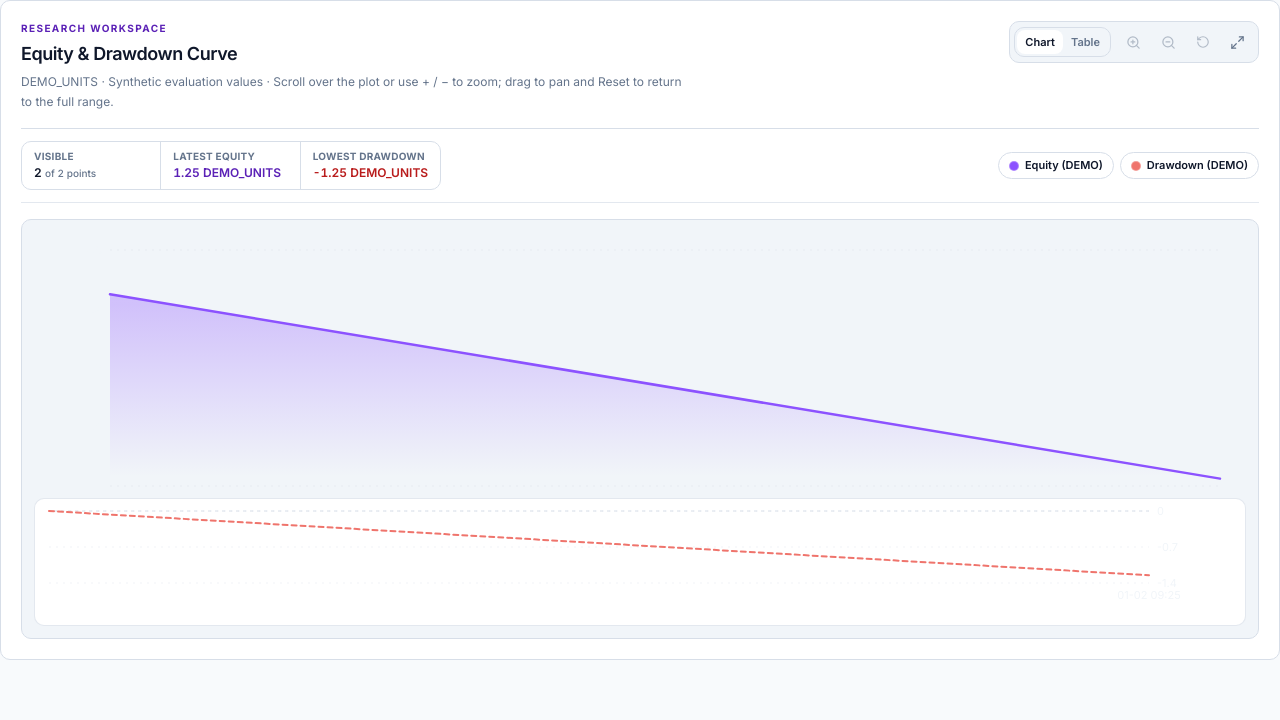
Test case: DemoEquityChart › offers chart/table inspection, series controls, and an accessible expanded dialog
Later steps or results of the test are not shown.
Expected: the heading "Equity & Drawdown Curve" is shown, [21,43,237,64]
Expected: the text "Synthetic evaluation values" is shown, [21,74,682,109]
Click the button "Table".
click(1086, 42)  # box [1063,30,1108,54]
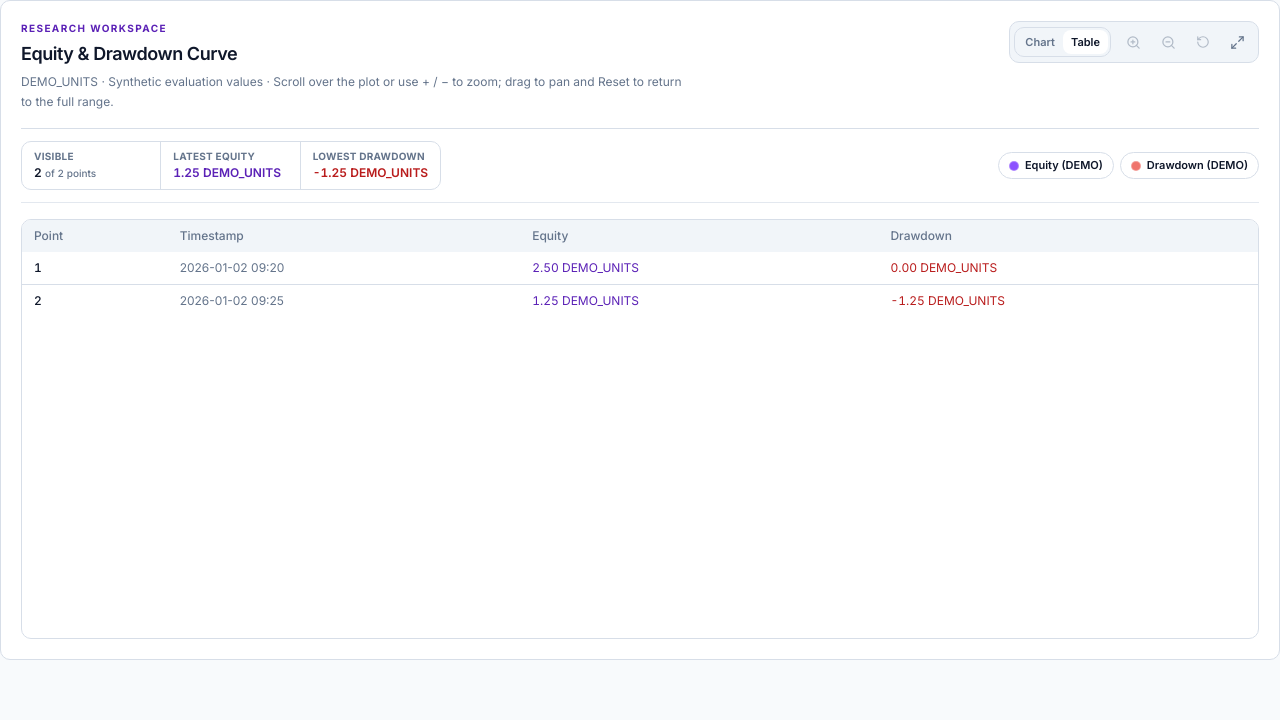
Now the element named "Visible synthetic equity and drawdown data" is shown, box [21,219,1259,639]
Now the text "2.50 DEMO_UNITS" is shown, box [520,252,878,285]
Click the button "Equity (DEMO)".
click(1056, 166)  # box [998,152,1114,179]
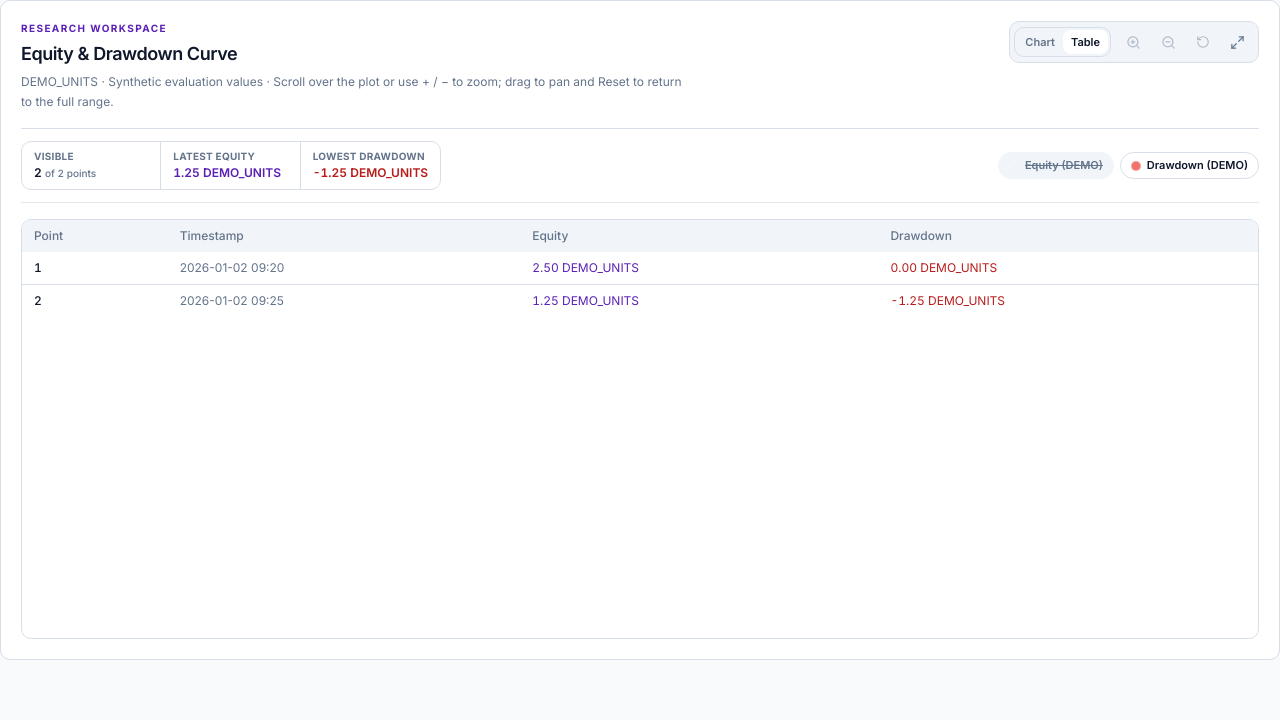
Click the button "Drawdown (DEMO)".
click(1189, 166)  # box [1120,152,1259,179]
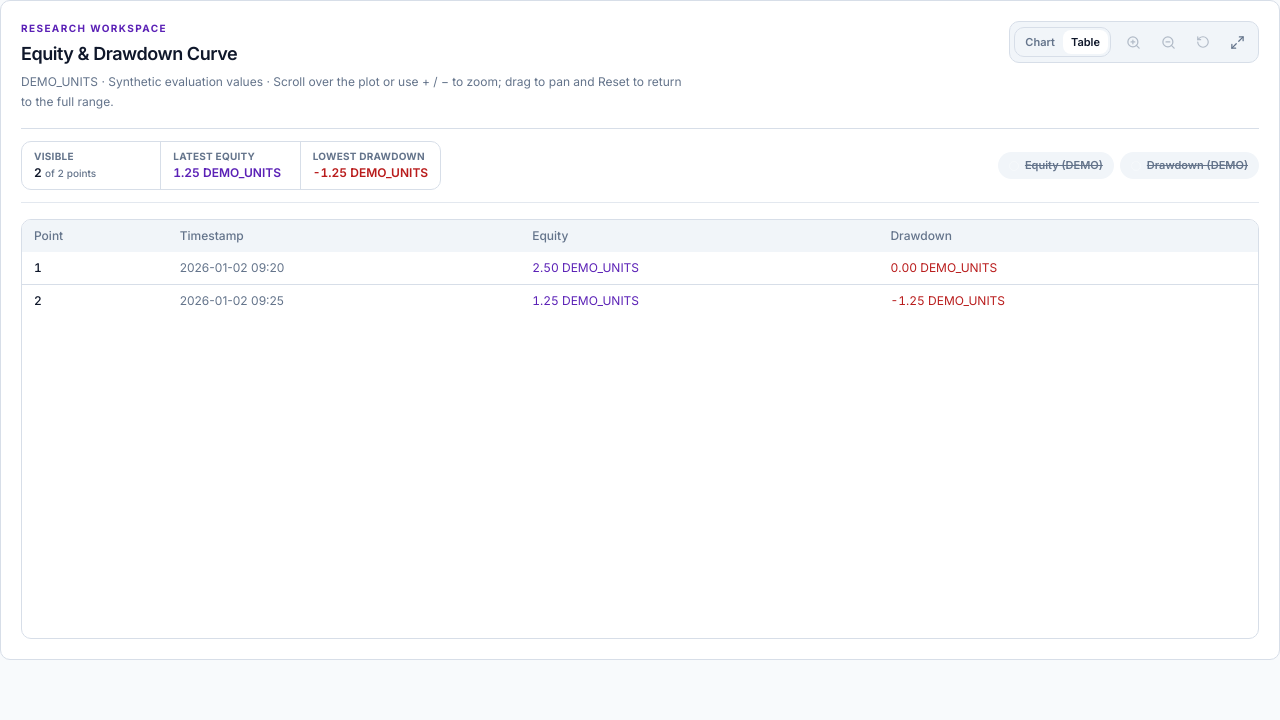
Click the button "Chart".
click(1040, 42)  # box [1017,30,1063,54]
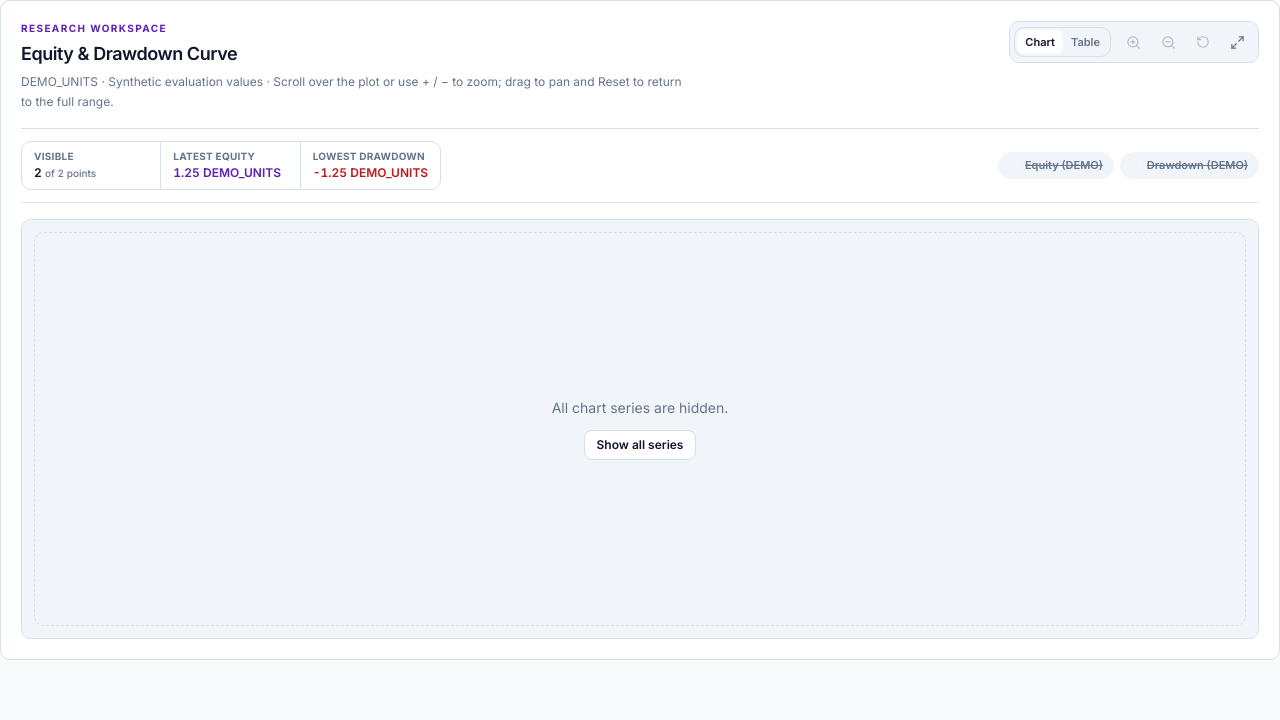
Now the text "All chart series are hidden." is shown, box [552,398,728,418]
Click the button "Show all series".
click(640, 445)  # box [584,430,696,460]
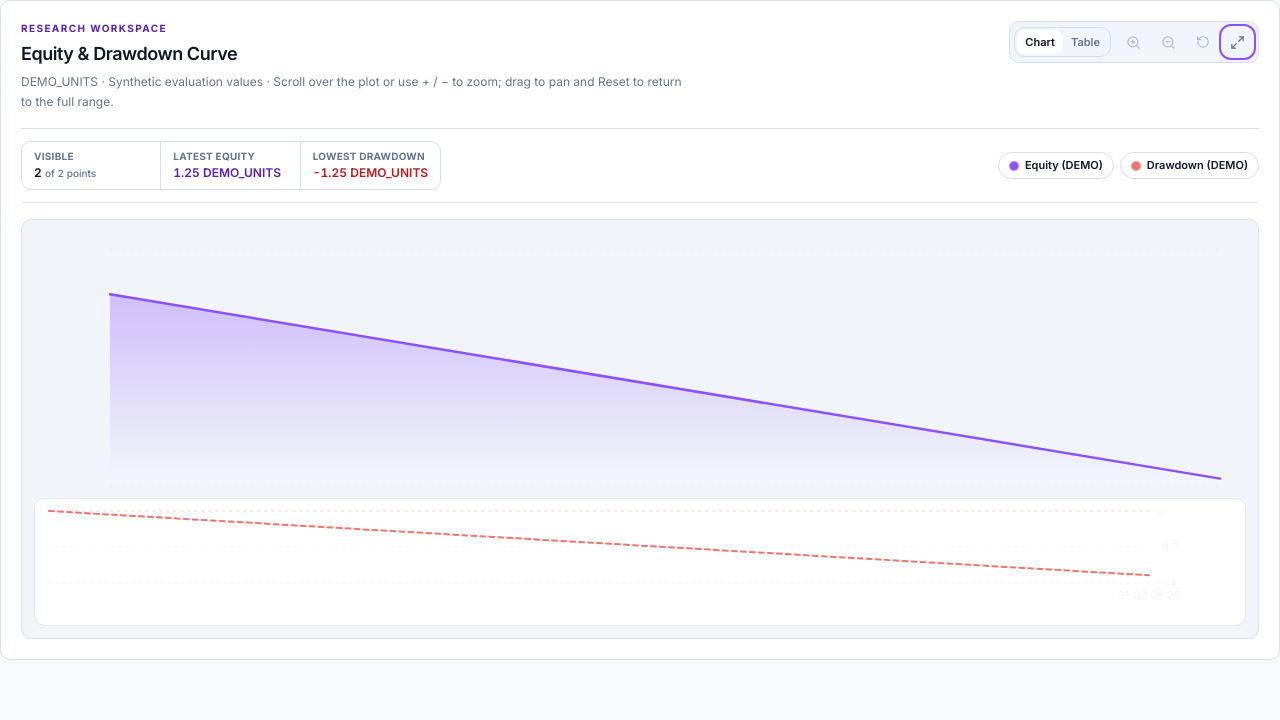
Click the button named "Expand chart".
click(1238, 42)  # box [1221,26,1254,58]
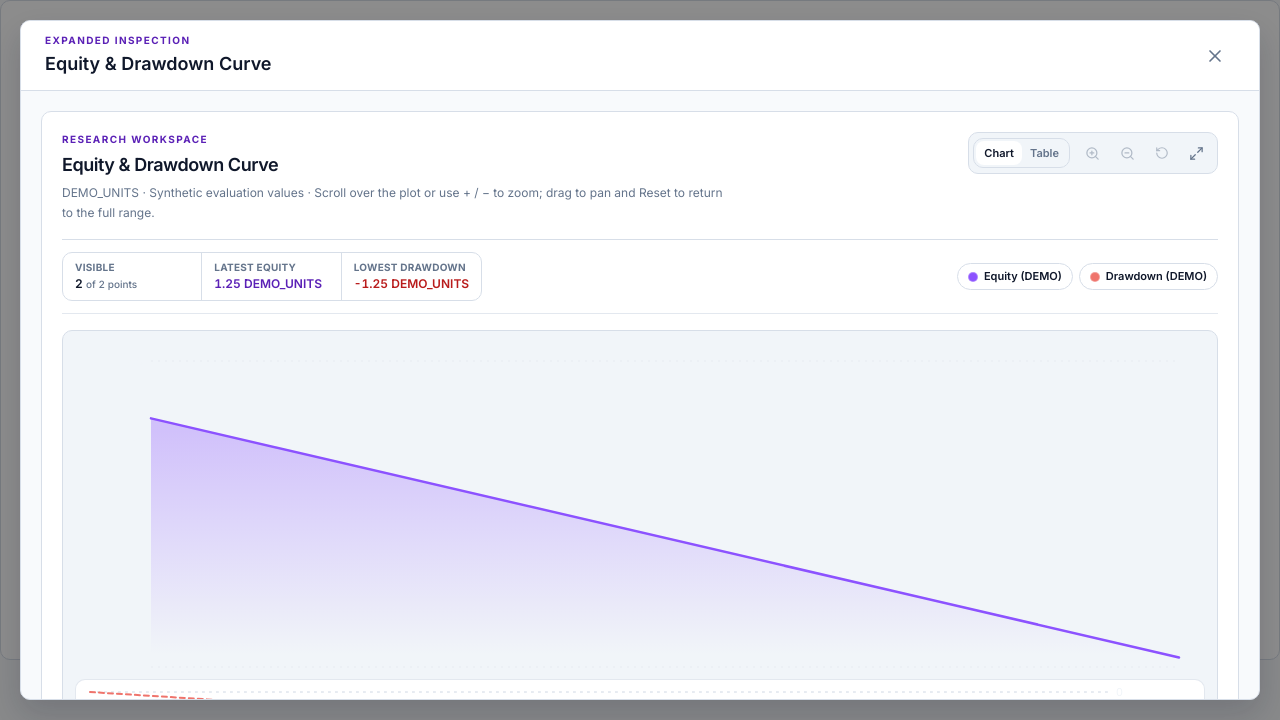
Now the dialog "Equity & Drawdown Curve" is shown
